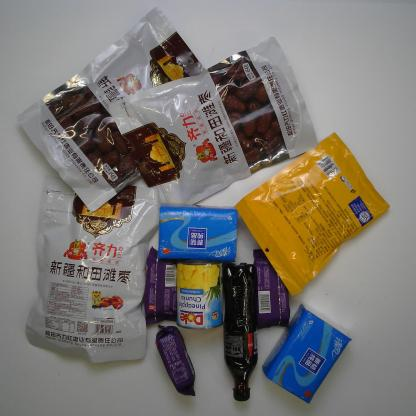Canned Food: (172, 256, 226, 332)
Dessert: (250, 247, 293, 331), (154, 322, 198, 400), (140, 245, 181, 326)
Dried Food: (12, 4, 212, 214), (119, 34, 323, 218), (22, 171, 166, 370)
Dried Fruit: (232, 130, 392, 298)
Drink: (219, 259, 260, 403)
Tissue: (260, 300, 354, 406), (154, 199, 241, 264)
